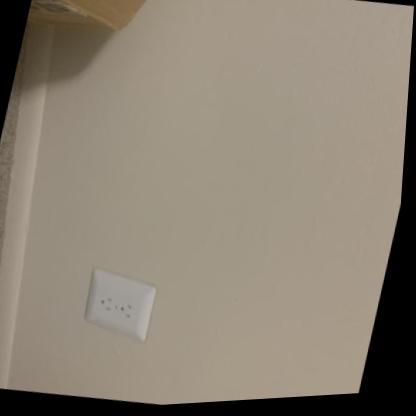OUTLET: (76, 262, 159, 348)
